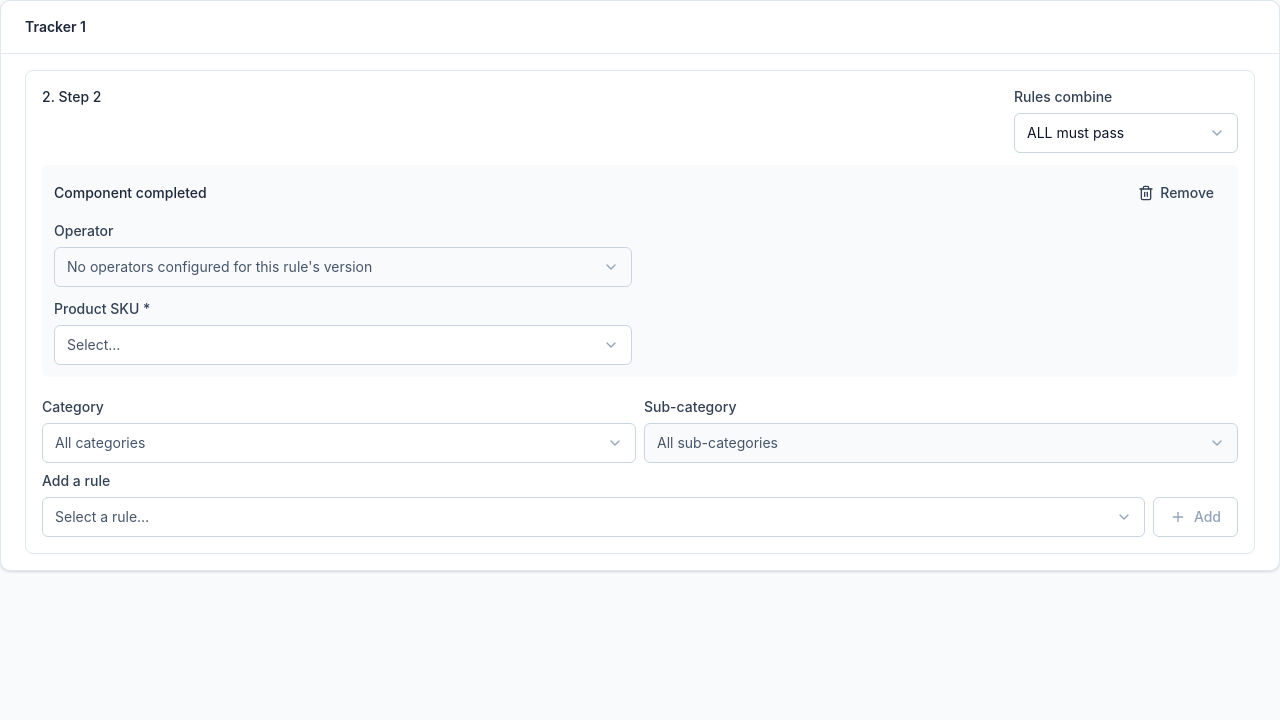
Test case: ComponentRulesStep — value-source-aware fields (T-125) › TC-5: an API_LOOKUP field against a mocked active provider loads, populates, and is selectable
Click the dropdown named "product sku" at (94, 344), box [54, 325, 632, 365]
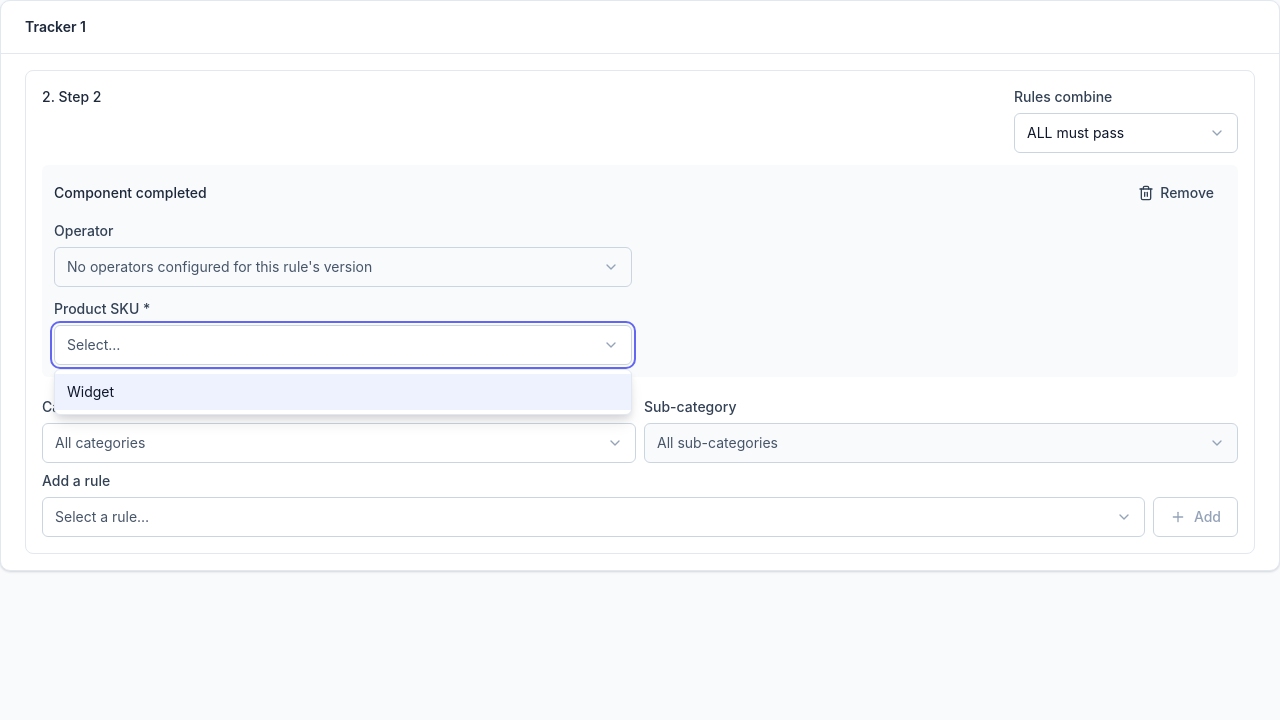
Click the option "Widget" at (91, 392), box [55, 374, 631, 410]
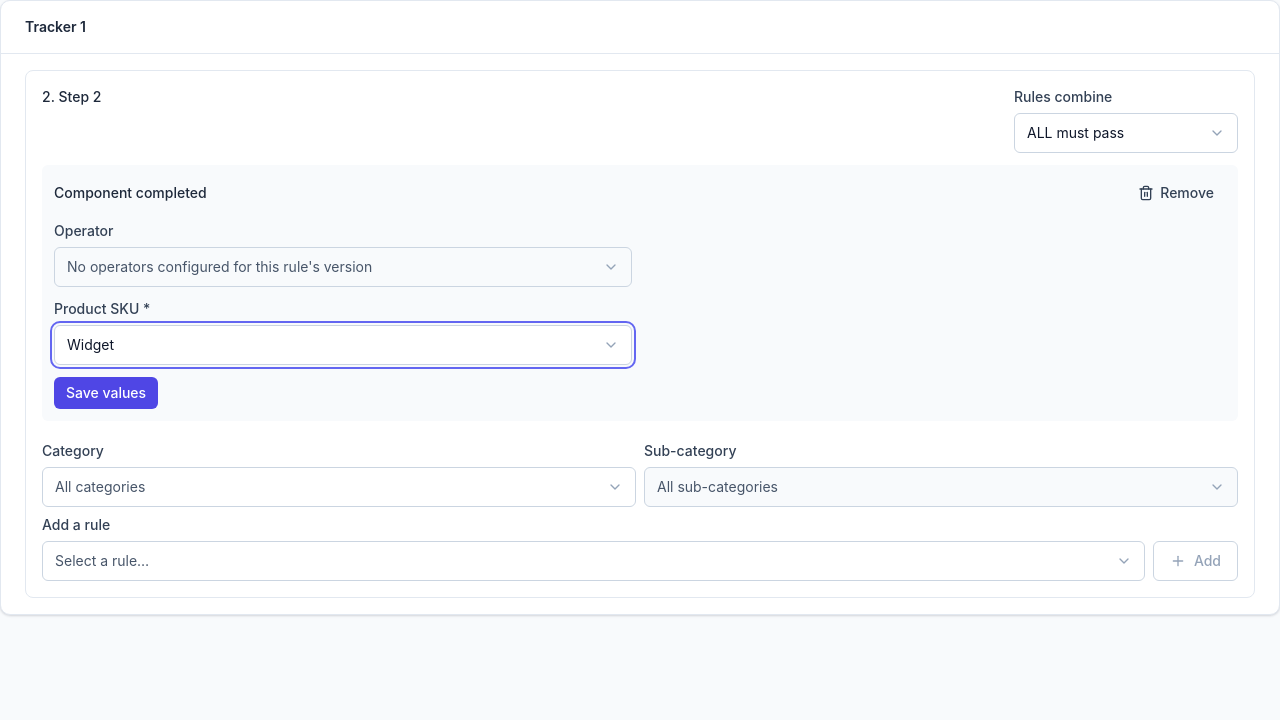
Result: the dropdown named "product sku" reads "Widget" at [54, 325, 632, 365]
